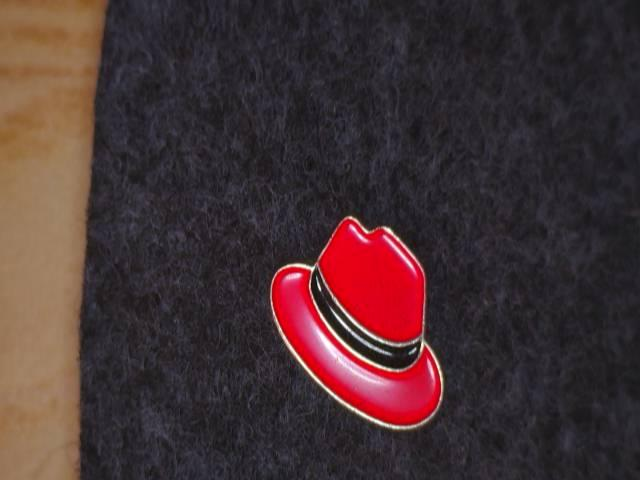Red-Hat: (249, 193, 473, 451)
